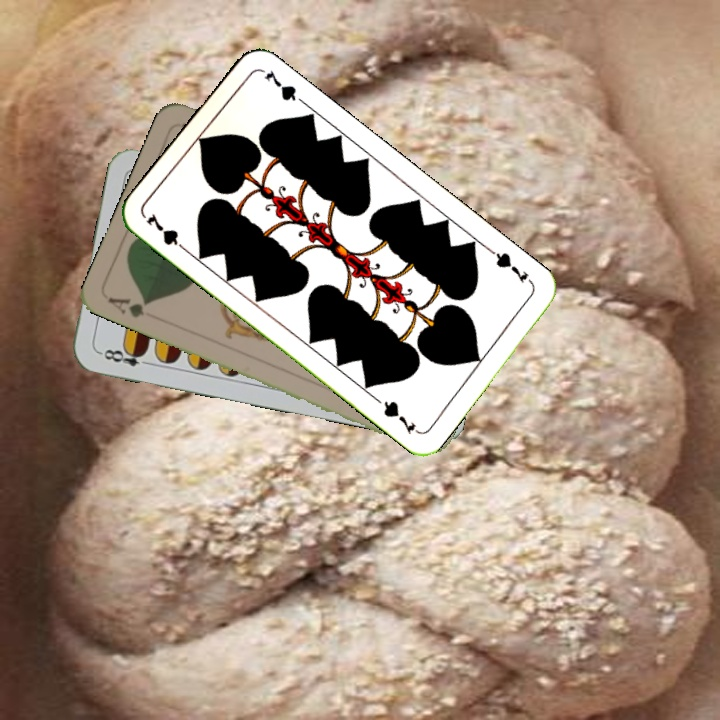E8: (95, 343, 154, 369)
G7: (142, 209, 192, 256), (486, 246, 532, 287)
GA: (104, 293, 152, 320)
